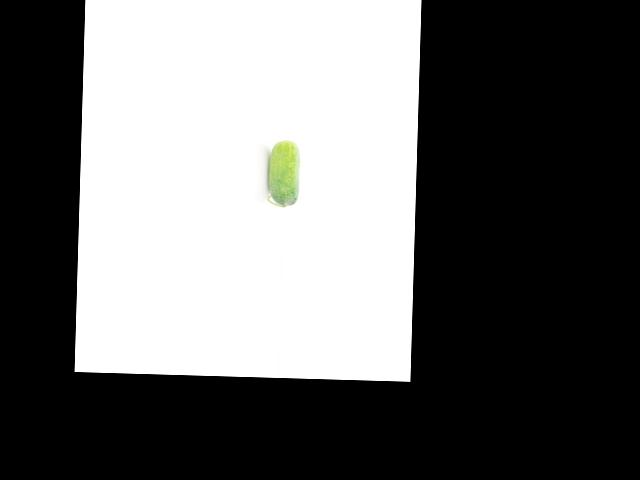cucumber: (266, 138, 300, 207)
